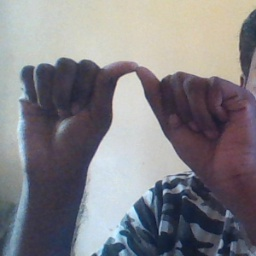A: (52, 43, 211, 157)
